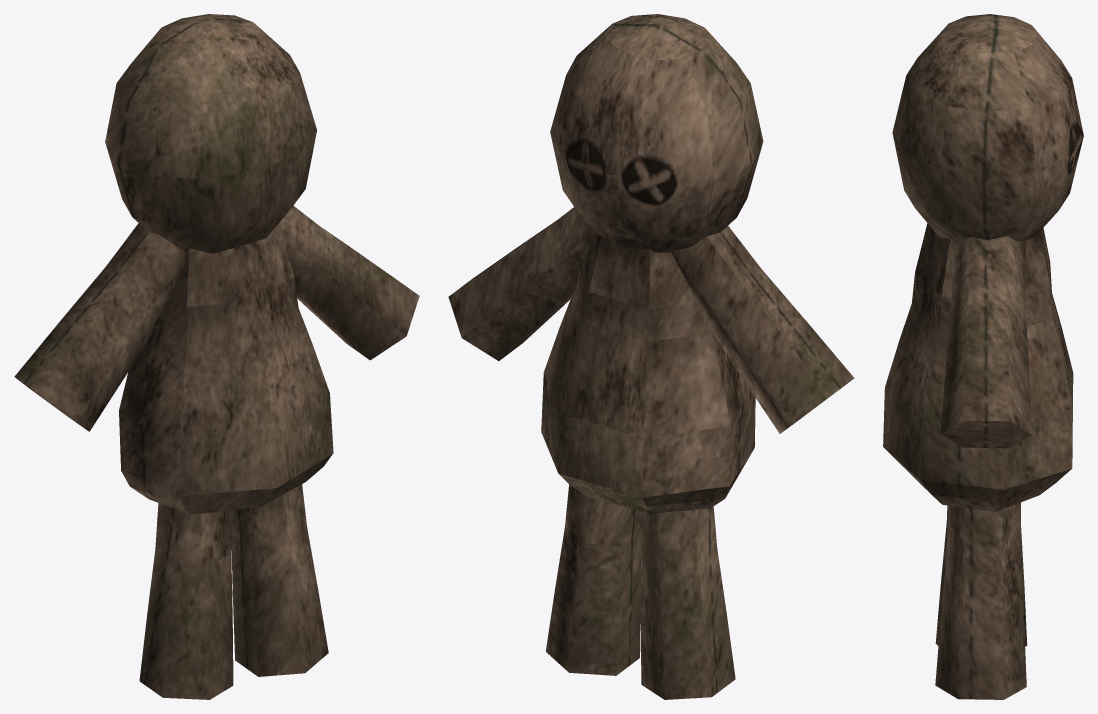
File: SM_DollHang.fbx
The picture shows the model from 3 angles, left to right: view 1: azimuth 30°, elevation 25°; view 2: azimuth 150°, elevation 25°; view 3: azimuth 270°, elevation 25°; orthographic projection. The views are drawn at different scales.
Visible parts, largest first — view 1: SM_DollHang; view 2: SM_DollHang; view 3: SM_DollHang.
Part boxes in pixels (x1,y1,x2,y2): SM_DollHang: [14, 14, 419, 699]; SM_DollHang: [448, 14, 854, 699]; SM_DollHang: [883, 14, 1083, 699].
Size of the model in its own units: 15.79 by 7.4 by 25.99.
1 material, 1 textured.
